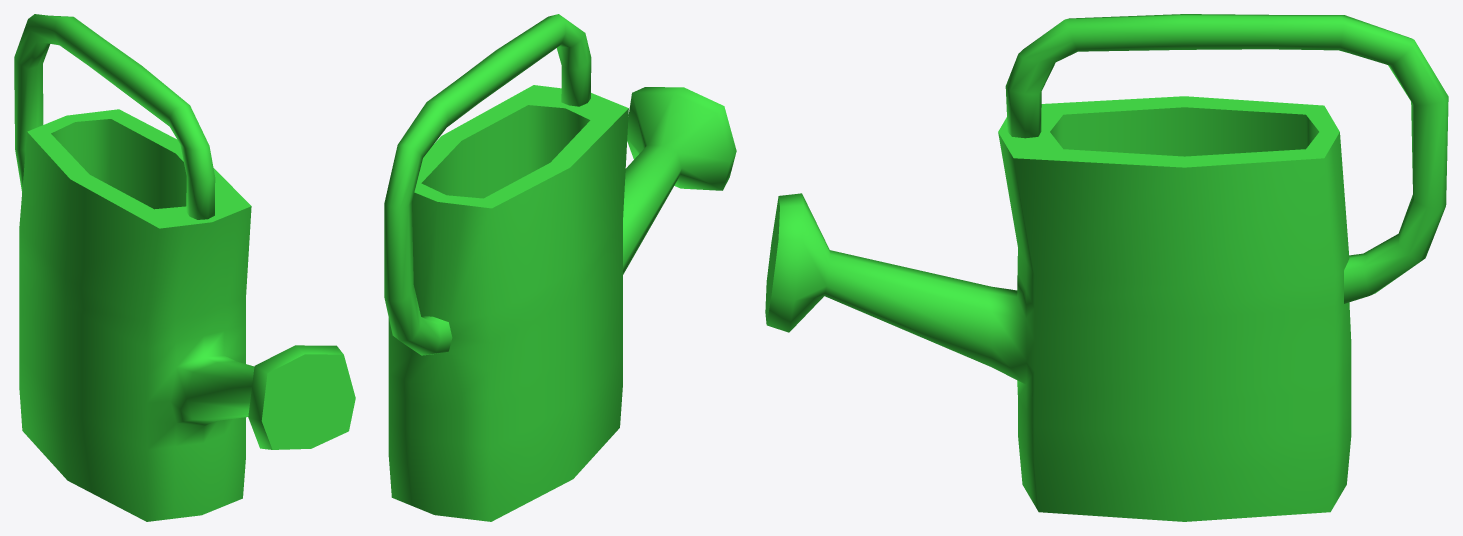
File: VillagerWateringCan.fbx
3 views of the same model, side by side, from view 1: azimuth 30°, elevation 25°; view 2: azimuth 150°, elevation 25°; view 3: azimuth 270°, elevation 25° (orthographic). The views are drawn at different scales.
Visible parts, largest first — view 1: VillagerWateringCan; view 2: VillagerWateringCan; view 3: VillagerWateringCan.
Boxes of the visible parts, x1,y1,x2,y2 form: VillagerWateringCan: (14, 14, 355, 521); VillagerWateringCan: (384, 14, 736, 521); VillagerWateringCan: (765, 14, 1448, 521).
Size of the model in its own units: 16.82 by 47.95 by 63.35.
